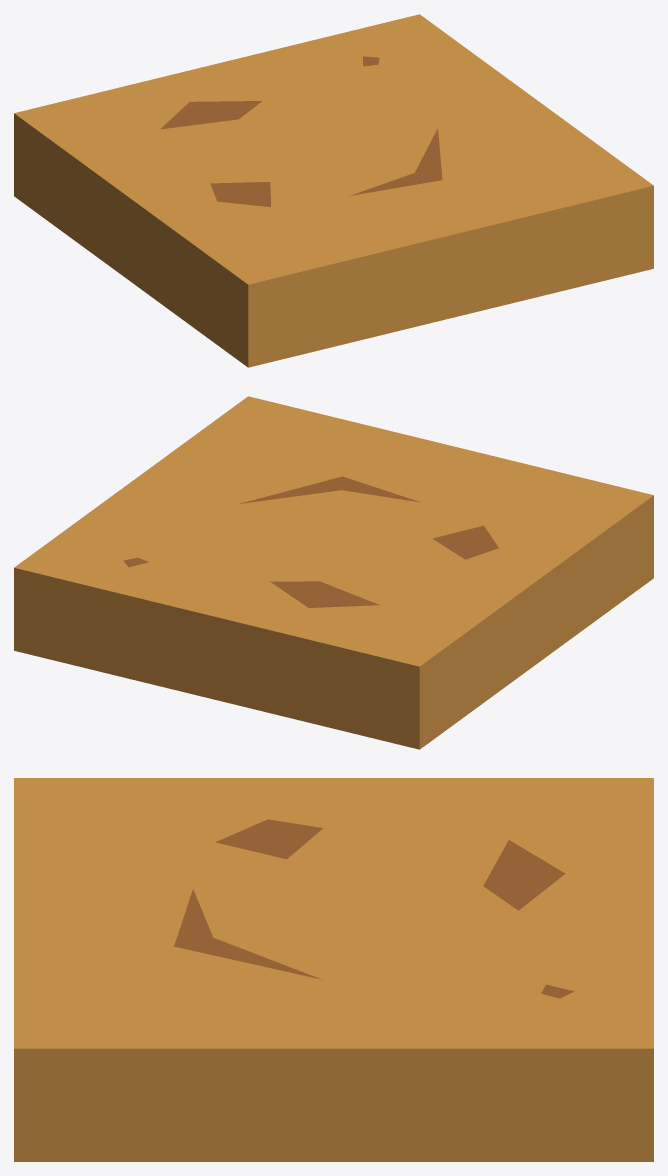
The model's file is Ground_4_3.glb.
The picture shows the model from 3 angles, top to bottom: view 1: azimuth 30°, elevation 25°; view 2: azimuth 150°, elevation 25°; view 3: azimuth 270°, elevation 25°; orthographic projection. The views are drawn at different scales.
Parts seen in each view (by area): view 1: Ground_4_3; view 2: Ground_4_3; view 3: Ground_4_3.
Boxes of the visible parts, x1=… form: Ground_4_3: x1=14, y1=14, x2=653, y2=367; Ground_4_3: x1=14, y1=396, x2=653, y2=749; Ground_4_3: x1=14, y1=778, x2=653, y2=1161.
Bounding box in the file's own units: 2 × 0.3912 × 2.
1 material, 1 textured.
